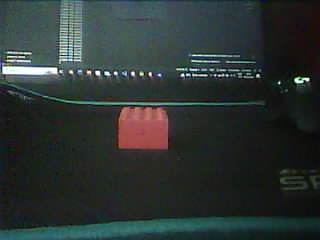lego: (117, 105, 169, 149)
